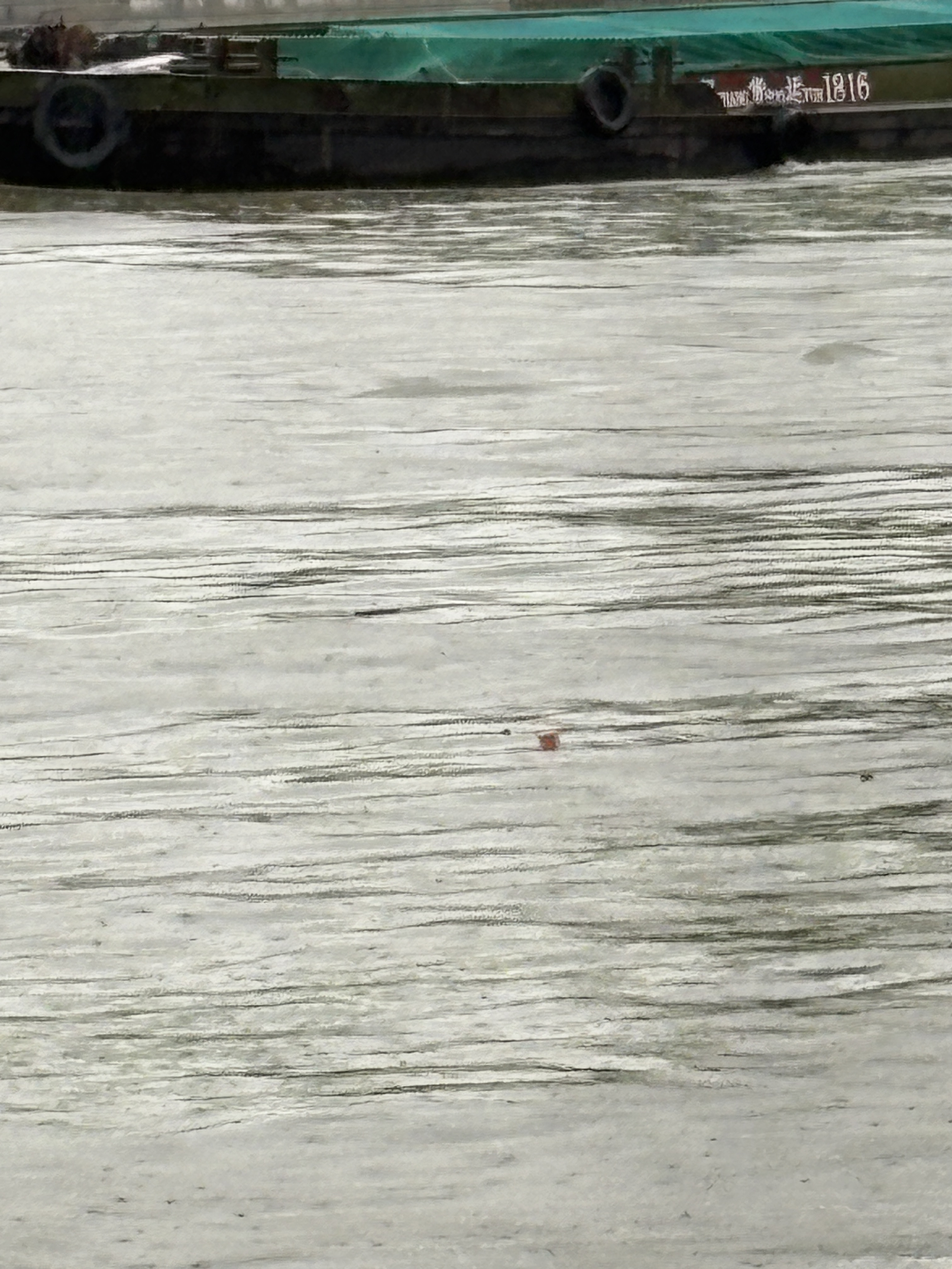Natural wastes: (544, 518, 568, 560)
